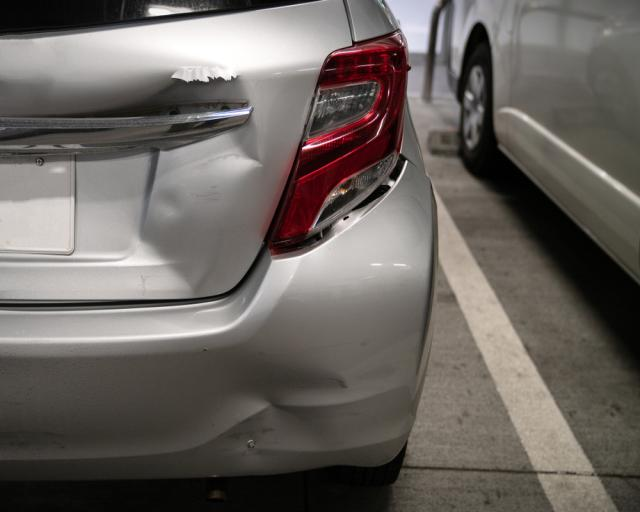dent: (107, 64, 267, 288), (206, 348, 344, 472)
